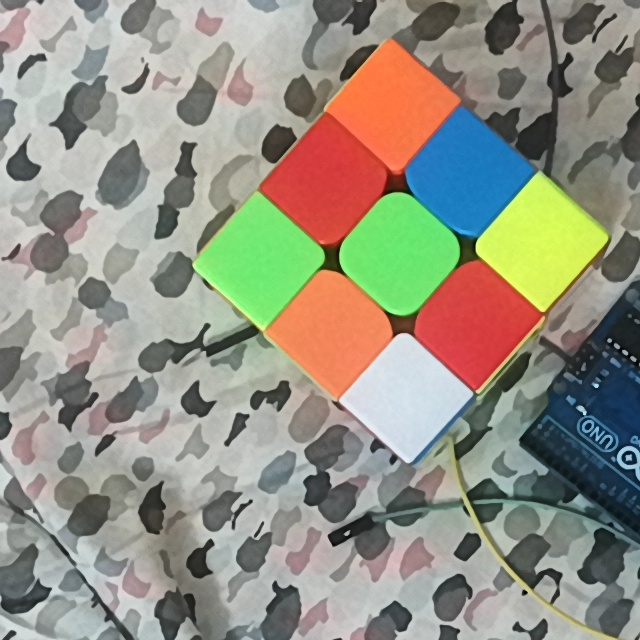tile: (435, 138, 501, 210), (295, 146, 361, 218), (441, 287, 509, 356), (364, 221, 433, 289), (225, 228, 292, 296), (360, 72, 427, 139), (508, 204, 573, 271), (300, 297, 366, 361), (375, 363, 438, 428)
